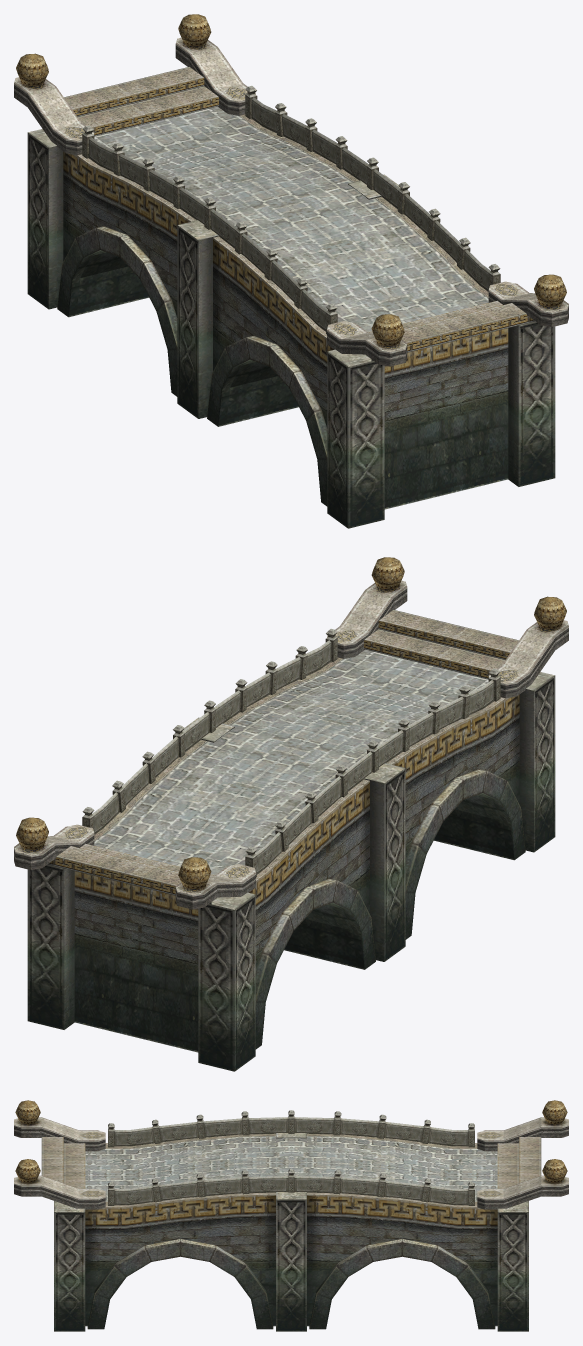
The model's file is otherworld_bridge_01.fbx.
3 views of the same model, one above another, from view 1: azimuth 30°, elevation 25°; view 2: azimuth 150°, elevation 25°; view 3: azimuth 270°, elevation 25° (orthographic). The views are drawn at different scales.
Parts seen in each view (by area): view 1: otherworld_bridge_01; view 2: otherworld_bridge_01; view 3: otherworld_bridge_01.
Part boxes in pixels (x1,y1,x2,y2): otherworld_bridge_01: [14, 14, 568, 528]; otherworld_bridge_01: [14, 557, 568, 1071]; otherworld_bridge_01: [14, 1100, 568, 1331].
Size of the model in its own units: 8.5 by 8.7 by 26.66.
